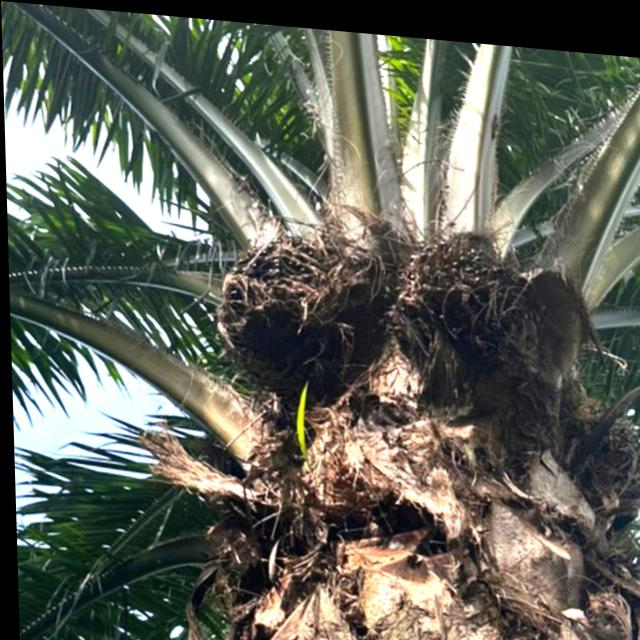unripe: (209, 212, 386, 400), (392, 211, 564, 385)
